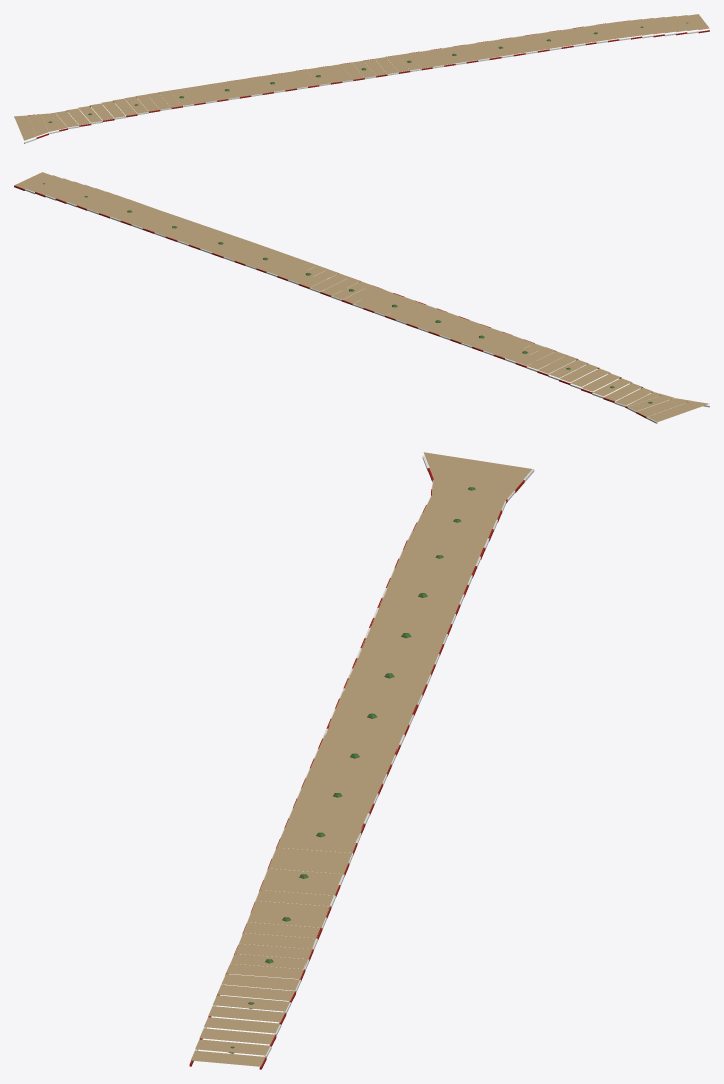
Rendered from pb_median_3.glb.
The picture shows the model from 3 angles, top to bottom: view 1: azimuth 30°, elevation 25°; view 2: azimuth 150°, elevation 25°; view 3: azimuth 270°, elevation 25°; orthographic projection. The views are drawn at different scales.
Visible parts, largest first — view 1: pb_median_3_lod0; view 2: pb_median_3_lod0; view 3: pb_median_3_lod0.
Part boxes in pixels (x1,y1,x2,y2): pb_median_3_lod0: (14,14,709,143); pb_median_3_lod0: (14,172,709,423); pb_median_3_lod0: (189,452,534,1069).
Size of what is drawn, in the model's own units: 187 by 2.76 by 44.03.
